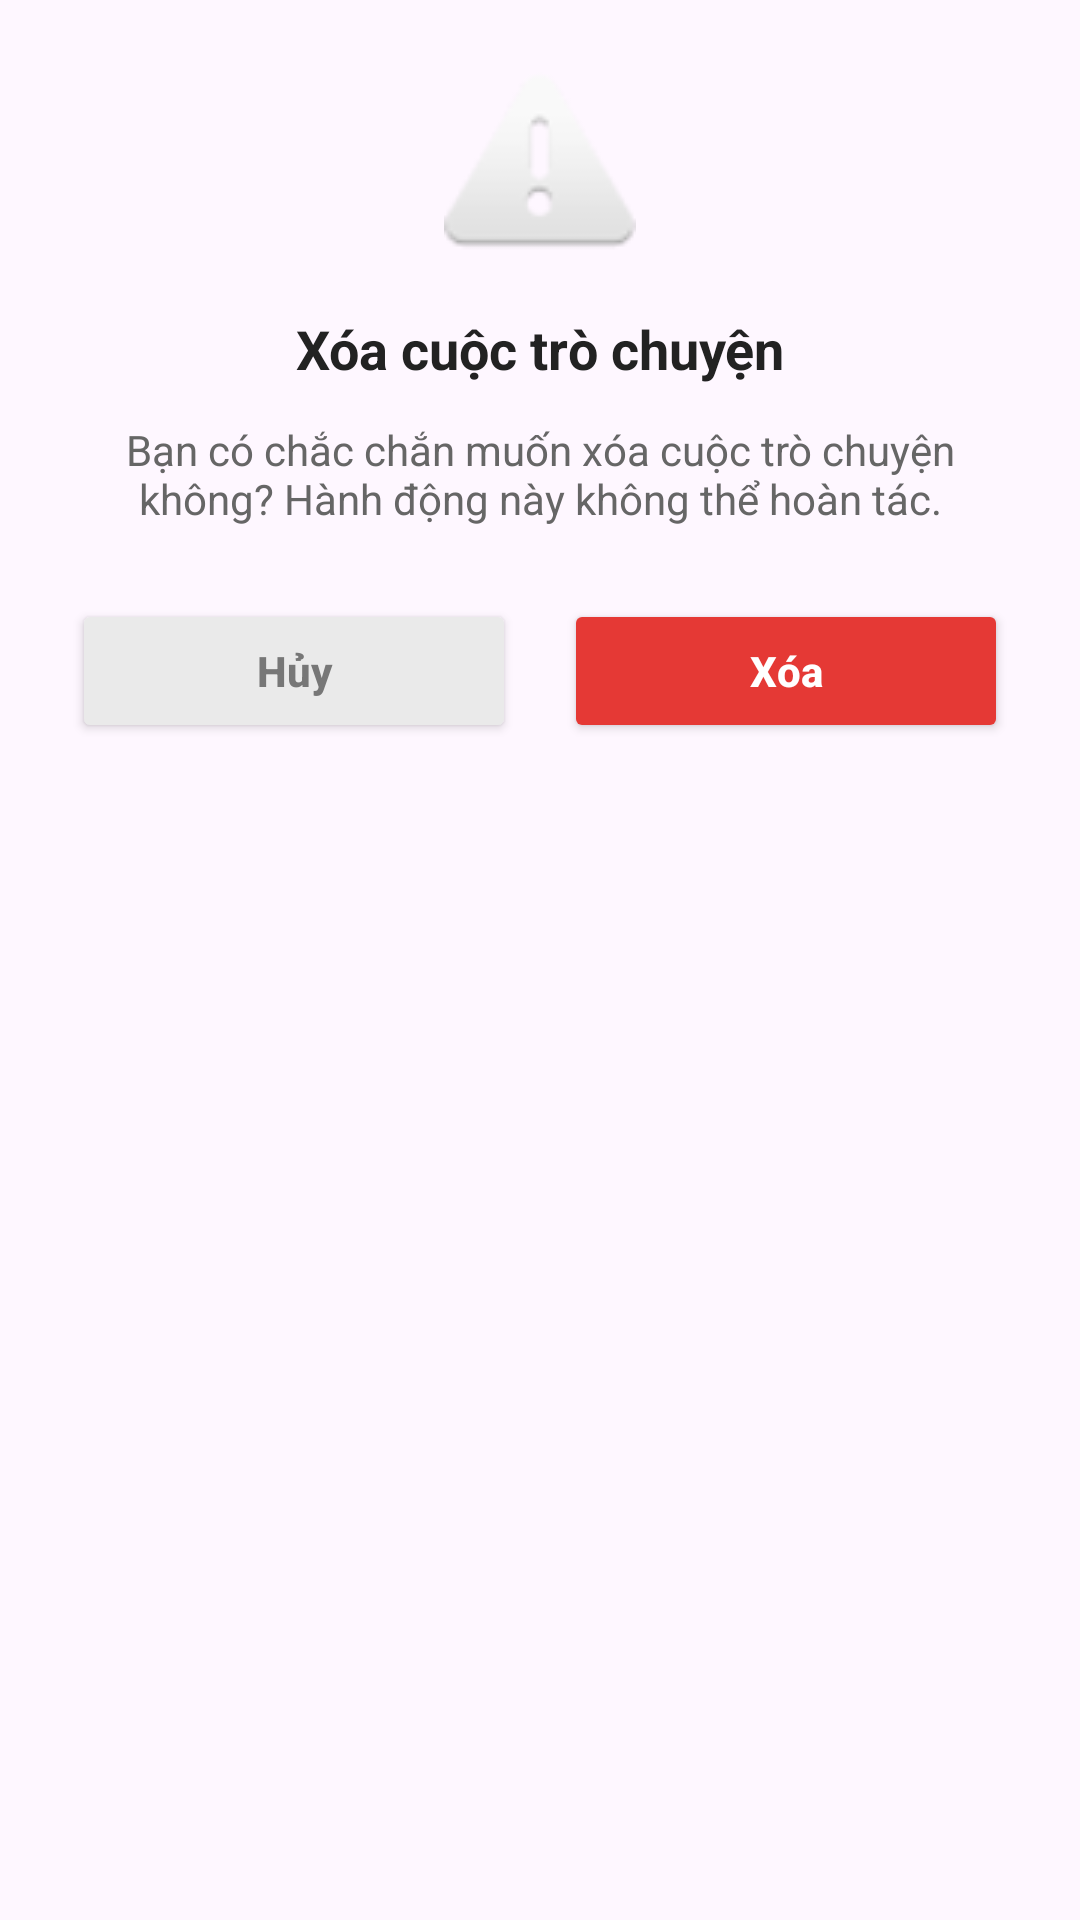

Screen size 1080px×1920px. Icon name, then its box in pixels as bbox(x1, y1, x2, y2):
Warning Icon: bbox(444, 116, 636, 246)
